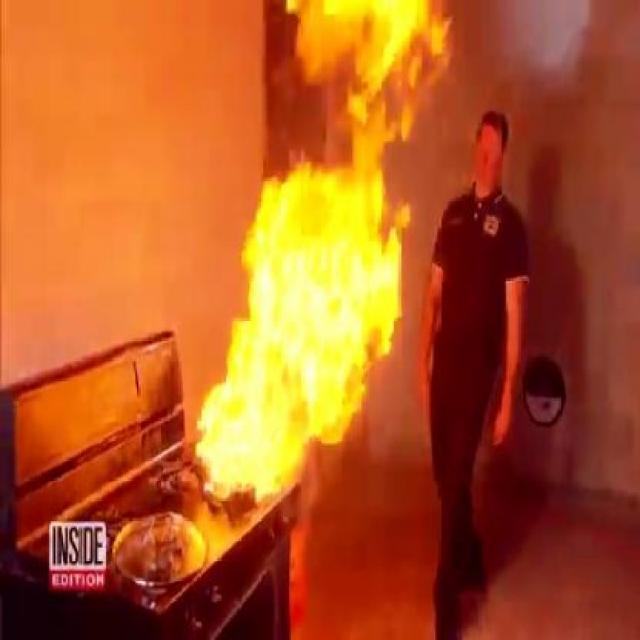fire: (202, 90, 404, 512)
smoke: (502, 2, 602, 92)
